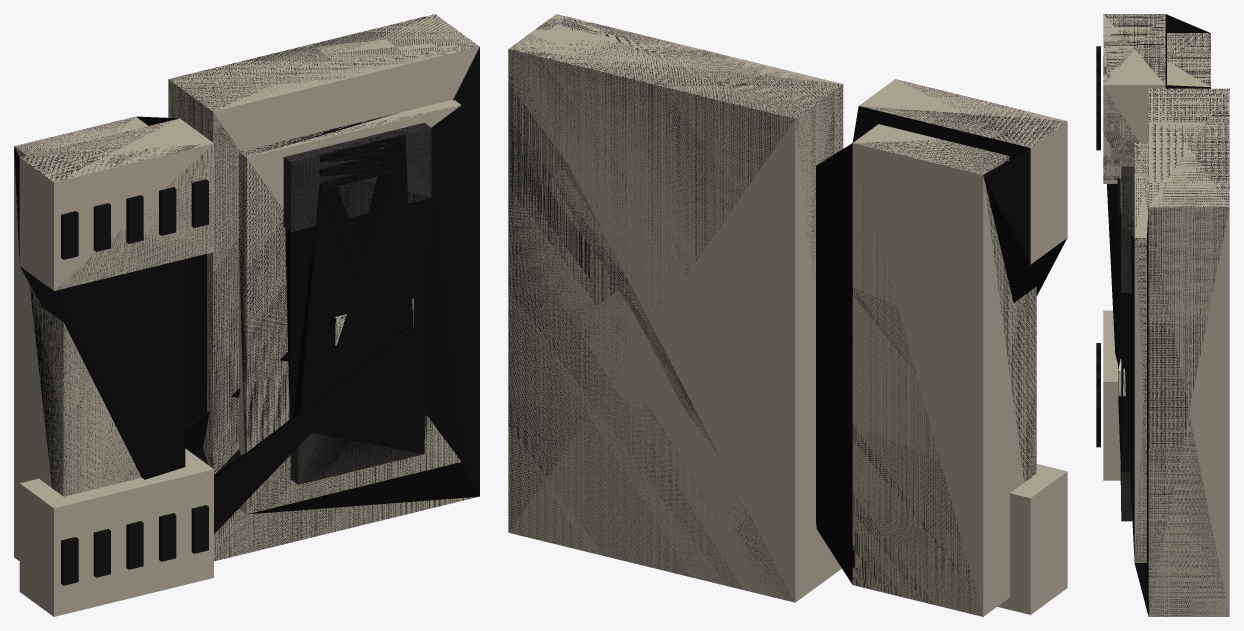
Rendered from handset_LOD1.obj.
3 views of the same model, side by side, from view 1: azimuth 30°, elevation 25°; view 2: azimuth 150°, elevation 25°; view 3: azimuth 270°, elevation 25° (orthographic). The views are drawn at different scales.
Size of the model in its own units: 0.304 by 0.29 by 0.0855.
